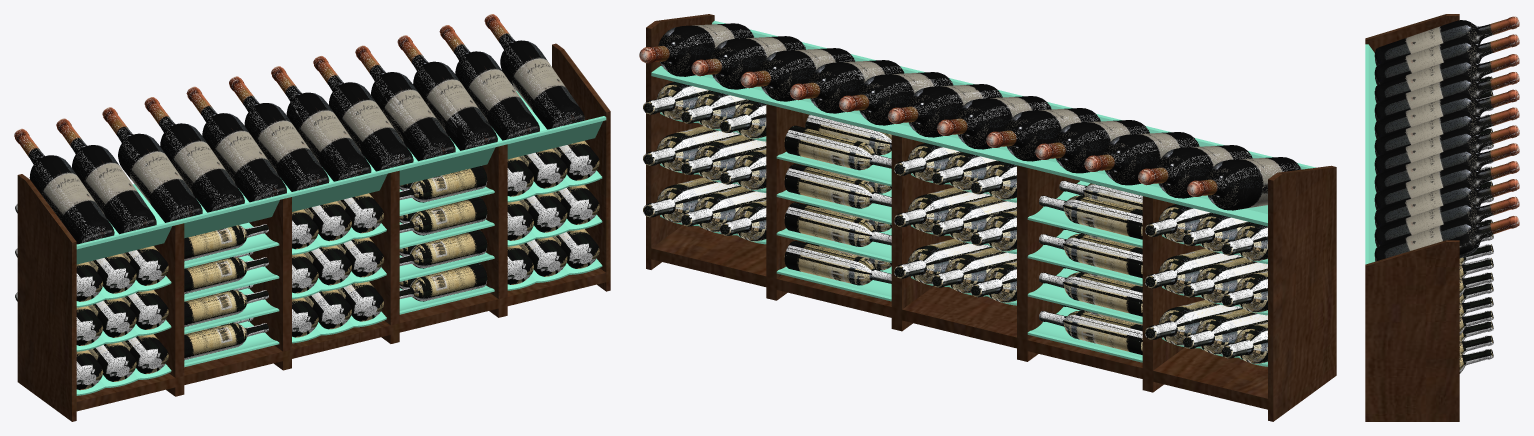
The model's file is wine.fbx.
The picture shows the model from 3 angles, left to right: view 1: azimuth 30°, elevation 25°; view 2: azimuth 150°, elevation 25°; view 3: azimuth 270°, elevation 25°; orthographic projection. The views are drawn at different scales.
Parts seen in each view (by area): view 1: group_1 (×12), ID75 (×31), Component_6 (×2), Component_17 (×4), Component_23, Component_16 (×2), Component_4 (×8), ID185 (×4); view 2: ID75 (×32), group_1 (×12), Component_6 (×2), Component_16 (×2), Component_17 (×4), ID185 (×5), Component_4 (×8), Component_23; view 3: group_1 (×12), Component_6 (×2), ID75 (×9), Component_23.
Part boxes in pixels (x1,y1,x2,y2): group_1 (×12): [14, 14, 584, 244]; ID75 (×31): [15, 85, 599, 390]; Component_6 (×2): [17, 43, 610, 421]; Component_17 (×4): [154, 144, 507, 377]; Component_23: [76, 91, 606, 264]; Component_16 (×2): [76, 268, 606, 411]; Component_4 (×8): [184, 186, 494, 367]; ID185 (×4): [184, 224, 268, 360]; ID75 (×32): [643, 82, 1267, 363]; group_1 (×12): [639, 23, 1301, 210]; Component_6 (×2): [646, 14, 1336, 421]; Component_16 (×2): [651, 225, 1267, 409]; Component_17 (×4): [766, 104, 1204, 370]; ID185 (×5): [1039, 180, 1142, 354]; Component_4 (×8): [776, 151, 1142, 362]; Component_23: [651, 20, 1315, 226]; group_1 (×12): [1374, 16, 1519, 261]; Component_6 (×2): [1365, 14, 1459, 421]; ID75 (×9): [1459, 244, 1493, 373]; Component_23: [1365, 44, 1376, 264].
Bounding box in the file's own units: 120 × 34.35 × 47.05.
5 materials, 3 textured.
